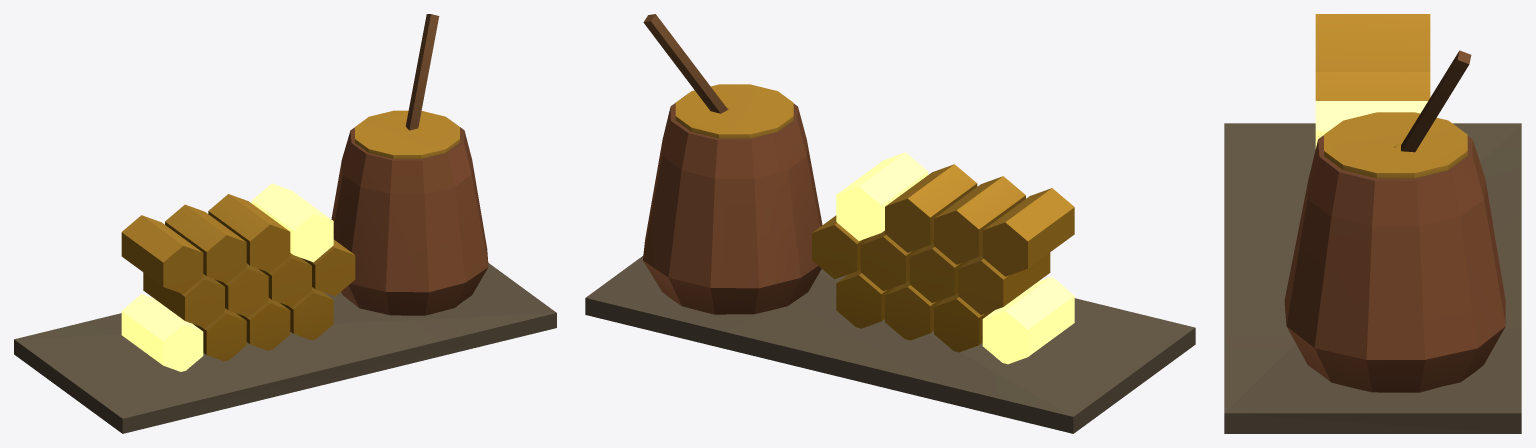
3 views of the same model, side by side, from view 1: azimuth 30°, elevation 25°; view 2: azimuth 150°, elevation 25°; view 3: azimuth 270°, elevation 25° (orthographic). The views are drawn at different scales.
Parts seen in each view (by area): view 1: base; view 2: base; view 3: base.
Boxes of the visible parts, box(x1,y1,x2,y2) form: base: box(14, 14, 556, 433); base: box(585, 14, 1195, 433); base: box(1224, 14, 1521, 433).
Bounding box in the file's own units: 0.6 × 0.3444 × 0.26.
